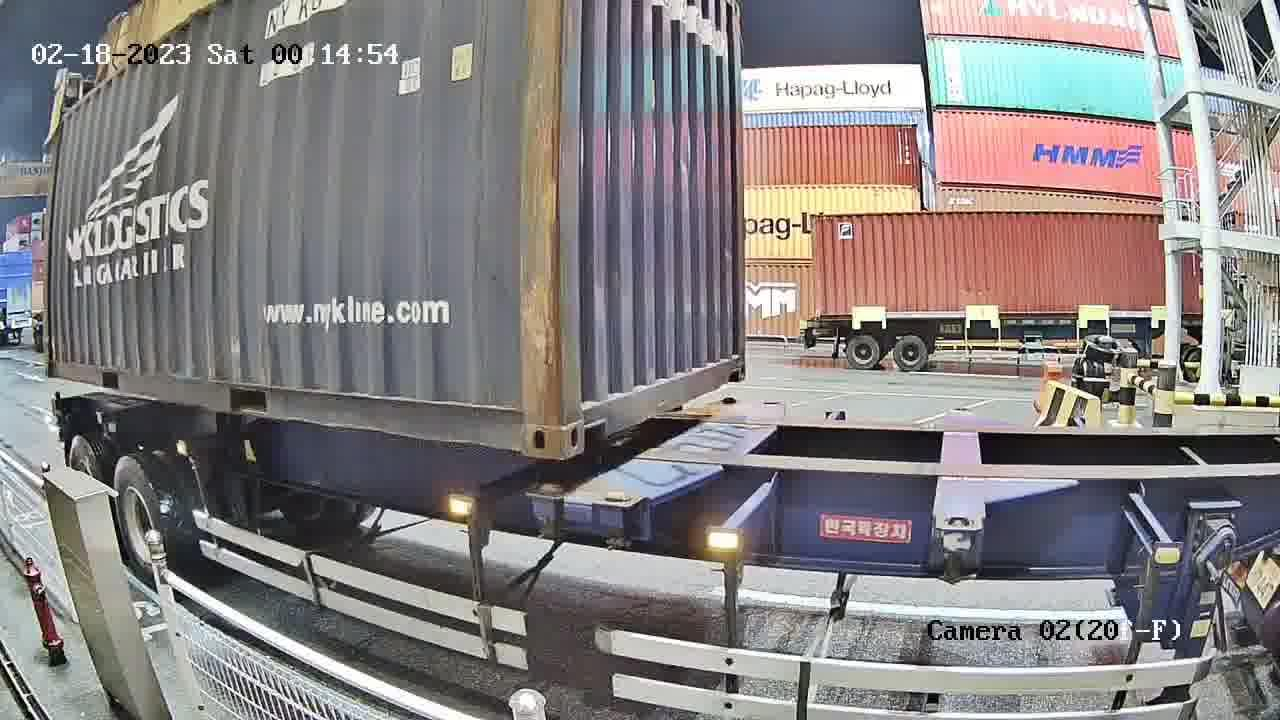Chassis: (527, 397, 742, 502), (601, 400, 785, 506)
Cone: (598, 490, 638, 554), (528, 482, 566, 540)
Hole_L: (560, 377, 615, 460)
Hole_R: (485, 378, 562, 458), (718, 338, 746, 387)
Tire: (113, 458, 172, 581)
